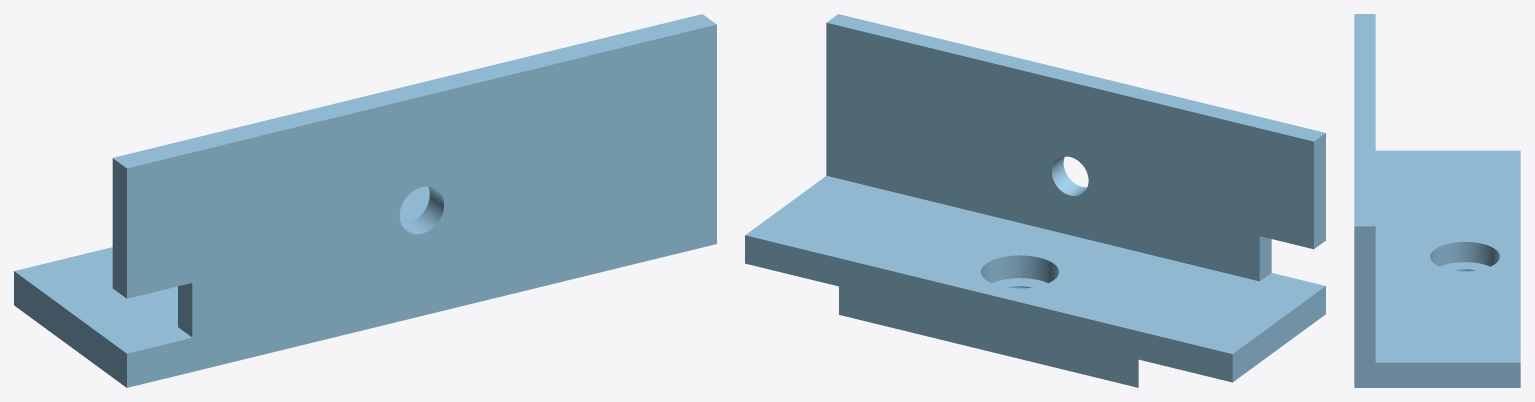
File: handv2-mate.dae
3 renders of one model, left to right at view 1: azimuth 30°, elevation 25°; view 2: azimuth 150°, elevation 25°; view 3: azimuth 270°, elevation 25°, orthographic. The views are drawn at different scales.
Visible parts, largest first — view 1: ID2; view 2: ID2; view 3: ID2.
Boxes of the visible parts, x1,y1,x2,y2 form: ID2: [14, 14, 716, 387]; ID2: [745, 14, 1325, 387]; ID2: [1354, 14, 1520, 387].
Size of the model in its own units: 0.09 by 0.0298 by 0.037.
